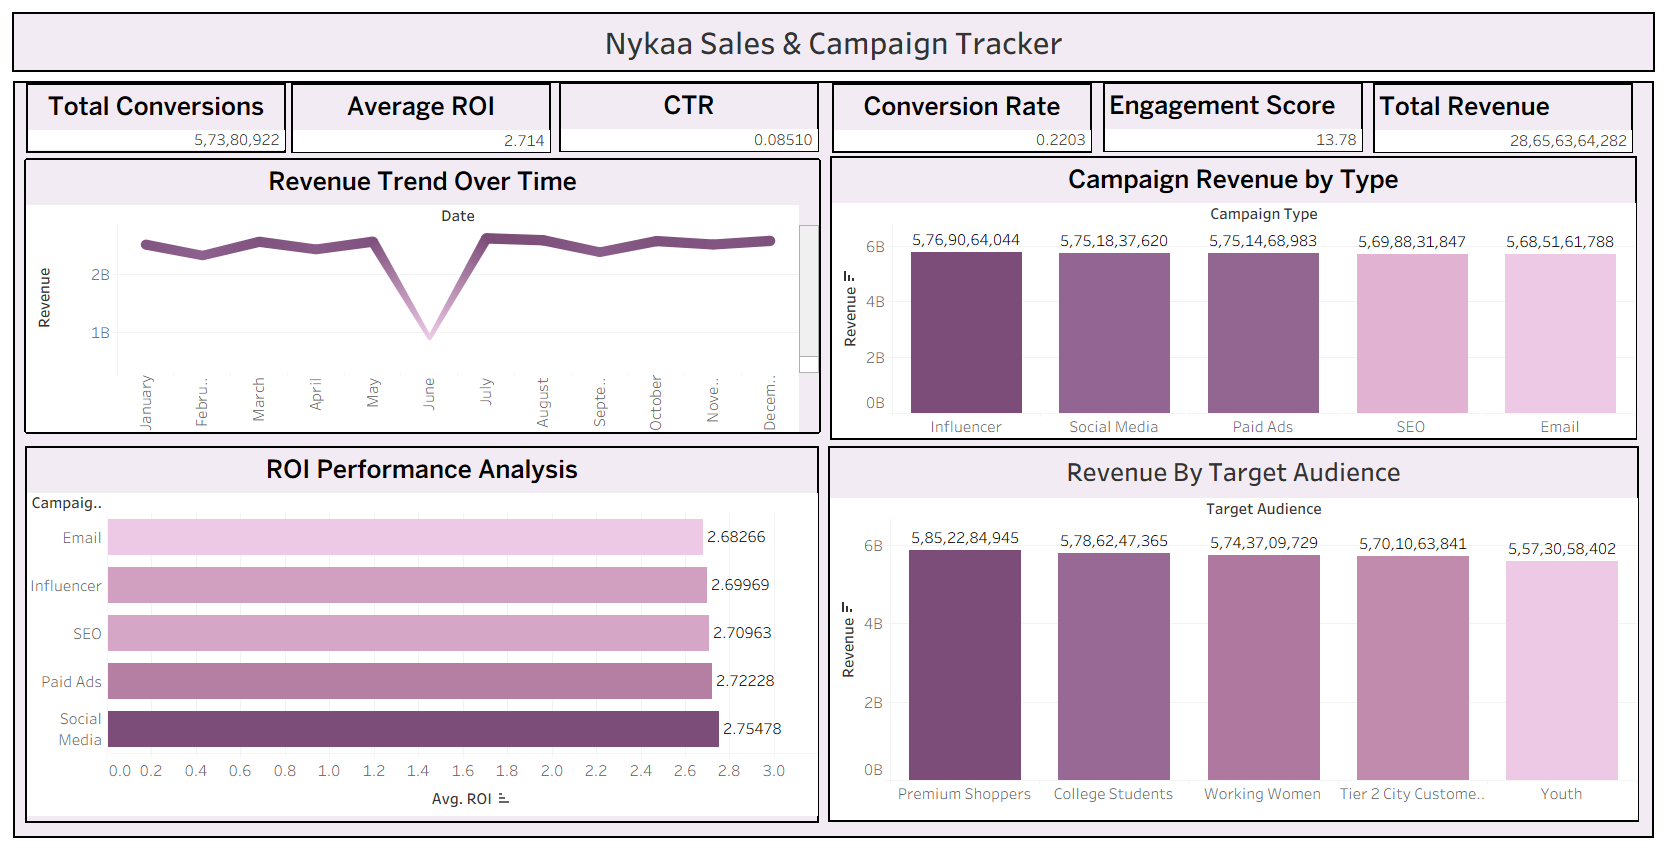

The dashboard page shown, as its layout file describes it:
{"tool":"tableau","page":{"name":"Executive Overview Dashboard","canvas":[1667,851],"ordinal":2},"visuals":[{"type":"title","box":[8,8,1651,68]},{"type":"worksheet","title":"CTR","mark":"Automatic","box":[559,82,260,70]},{"type":"worksheet","title":"Engagement Score","mark":"Automatic","box":[1103,82,260,70]},{"type":"worksheet","title":"Total Conversions","mark":"Automatic","box":[26,83,260,70]},{"type":"worksheet","title":"Average ROI","mark":"Automatic","box":[291,83,260,70]},{"type":"worksheet","title":"Conversion Rate","mark":"Automatic","box":[832,83,260,70]},{"type":"worksheet","title":"Total Revenue","mark":"Automatic","box":[1373,83,260,70]},{"type":"worksheet","title":"Revenue Trend Over Time","mark":"Line","rows":["Revenue"],"cols":["Date"],"box":[22,156,801,280]},{"type":"worksheet","title":"Campaign Revenue by Type","mark":"Bar","rows":["Revenue"],"cols":["Campaign_Type"],"box":[830,156,807,284]},{"type":"worksheet","title":"ROI Performance Analysis","mark":"Bar","rows":["Campaign_Type"],"cols":["ROI"],"box":[25,446,794,377]},{"type":"worksheet","title":"Revenue By Target Audience","mark":"Automatic","rows":["Revenue"],"cols":["Target_Audience"],"box":[828.3,446.5,810.6,375.6]}]}

Visuals, with their boxes in screenshot pixels (x1, y1, x2, y2), scaled from the page's 1667x851 canvas onto the 1667x851 screenshot:
title: (x1=8, y1=8, x2=1659, y2=76)
"CTR" worksheet: (x1=559, y1=82, x2=819, y2=152)
"Engagement Score" worksheet: (x1=1103, y1=82, x2=1363, y2=152)
"Total Conversions" worksheet: (x1=26, y1=83, x2=286, y2=153)
"Average ROI" worksheet: (x1=291, y1=83, x2=551, y2=153)
"Conversion Rate" worksheet: (x1=832, y1=83, x2=1092, y2=153)
"Total Revenue" worksheet: (x1=1373, y1=83, x2=1633, y2=153)
"Revenue Trend Over Time" worksheet (Line marks): (x1=22, y1=156, x2=823, y2=436)
"Campaign Revenue by Type" worksheet (Bar marks): (x1=830, y1=156, x2=1637, y2=440)
"ROI Performance Analysis" worksheet (Bar marks): (x1=25, y1=446, x2=819, y2=823)
"Revenue By Target Audience" worksheet: (x1=828, y1=446, x2=1639, y2=822)
